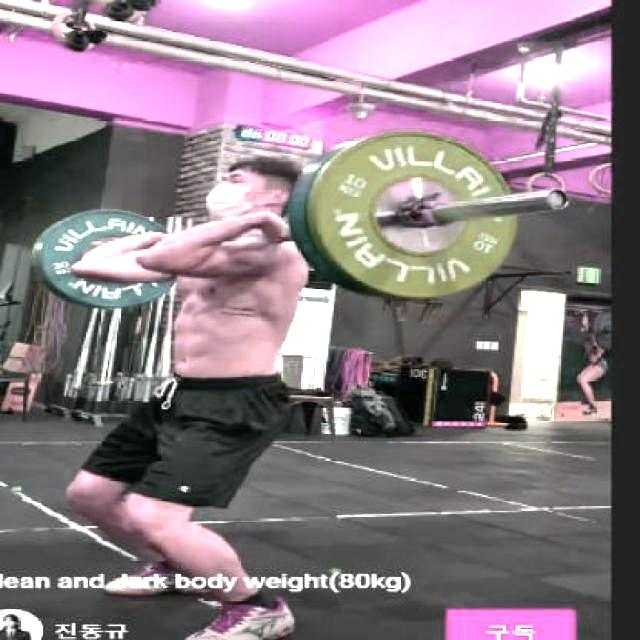barbell: (306, 125, 570, 307)
